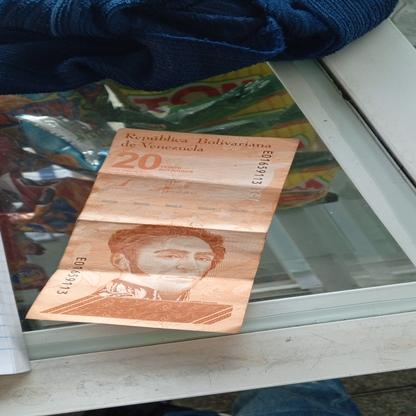twenty-front-vef: (25, 127, 302, 334)
